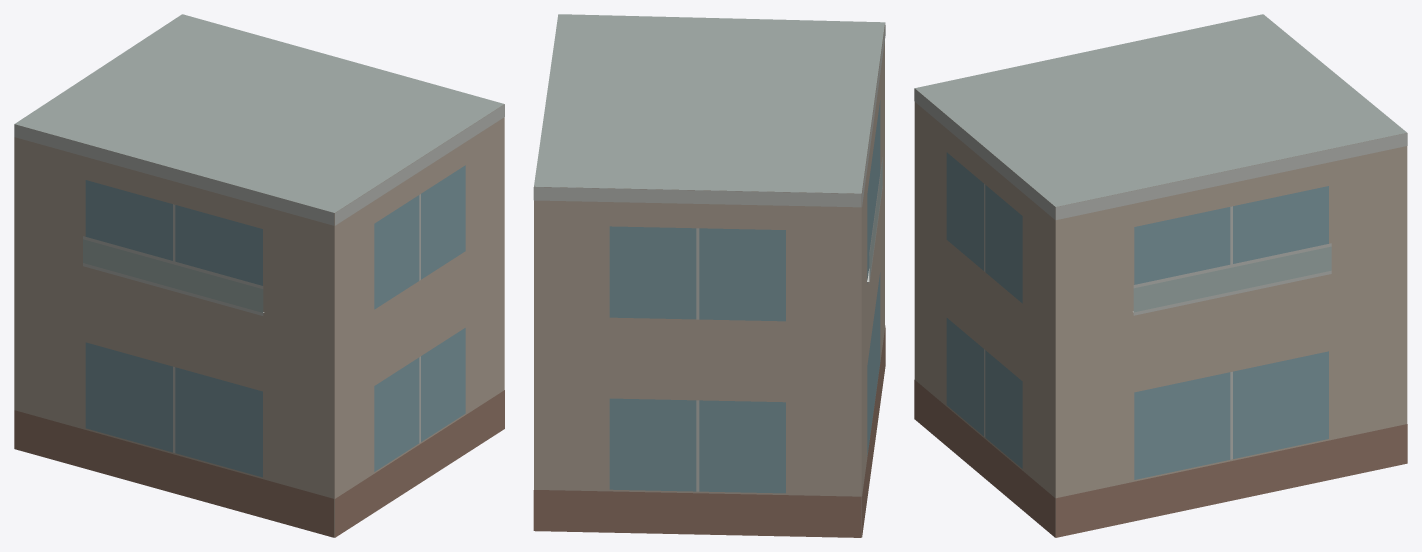
Rendered from survey-upis-32919397.glb.
The picture shows the model from 3 angles, left to right: view 1: azimuth 30°, elevation 25°; view 2: azimuth 150°, elevation 25°; view 3: azimuth 270°, elevation 25°; orthographic projection. The views are drawn at different scales.
Parts seen in each view (by area): view 1: survey-upis-32919397.tmp; view 2: survey-upis-32919397.tmp; view 3: survey-upis-32919397.tmp.
Part boxes in pixels (x1,y1,x2,y2): survey-upis-32919397.tmp: (14,14,504,537); survey-upis-32919397.tmp: (533,14,885,537); survey-upis-32919397.tmp: (914,14,1407,537).
Size of the model in its own units: 7.64 by 6.1 by 8.25.
